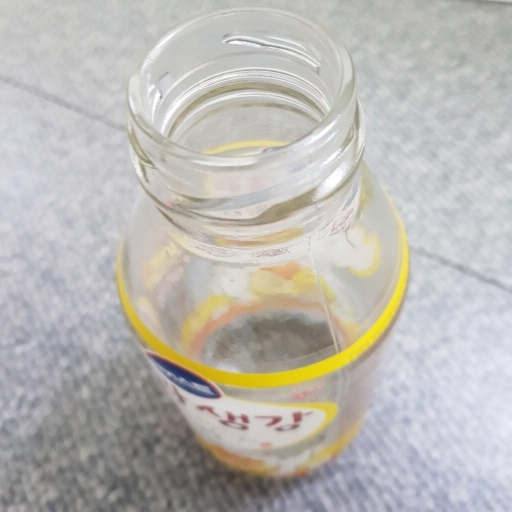Glass_4: (104, 8, 416, 487)
